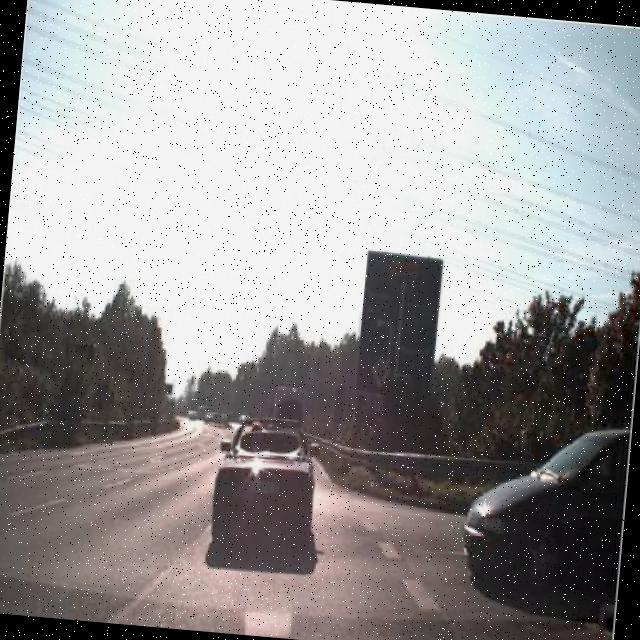Ograniczenie predkosci do 70: (366, 386, 386, 418)
